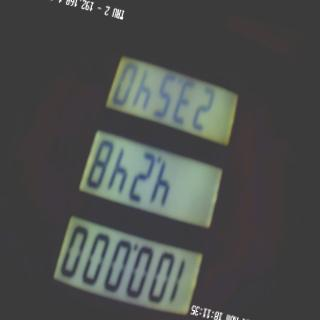screen: (42, 36, 259, 320)
